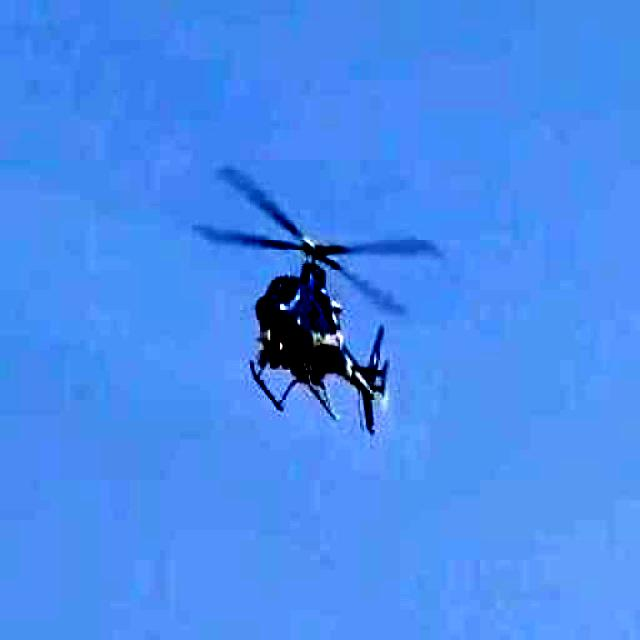drone: (144, 165, 482, 458)
